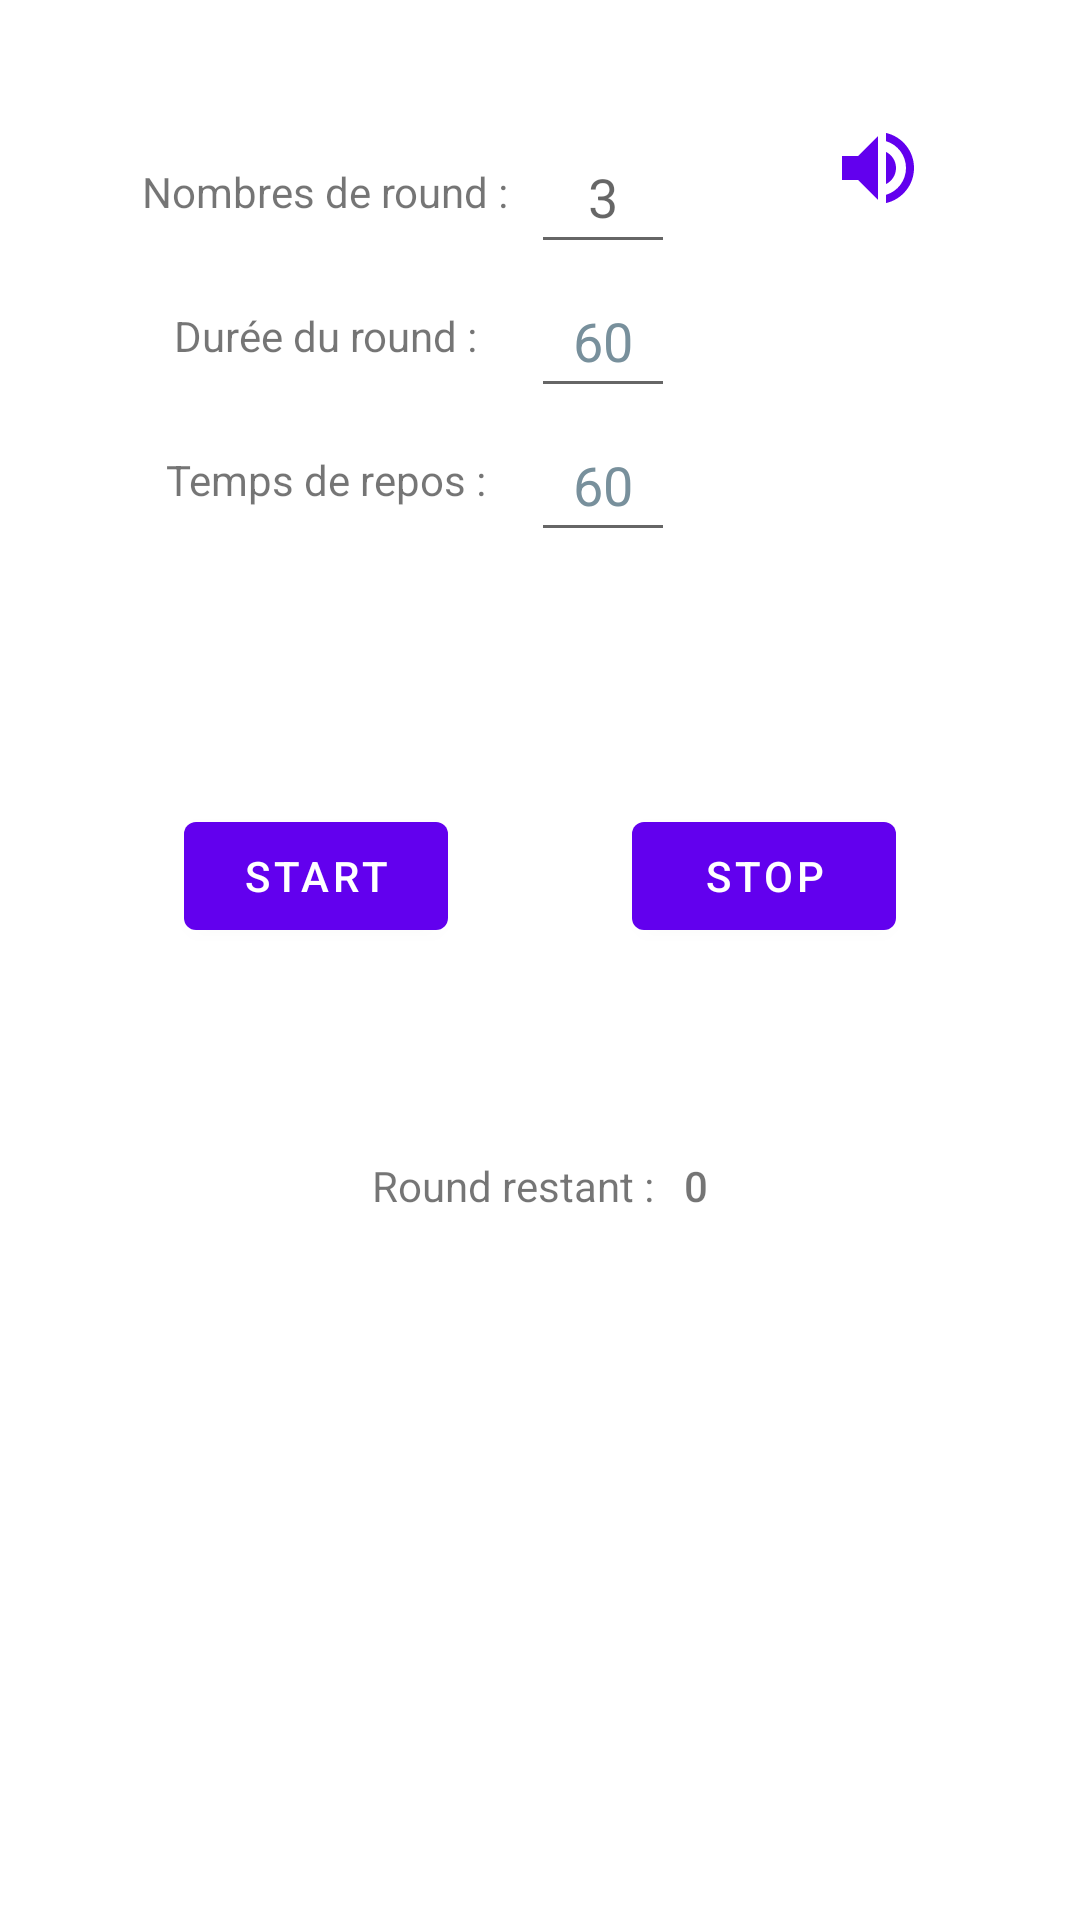

Named icons in this screenshot (1080 x 1920) and their bounding boxes, (x1, y1, x2, y2):
mutevolume button: (842, 133, 914, 203)
